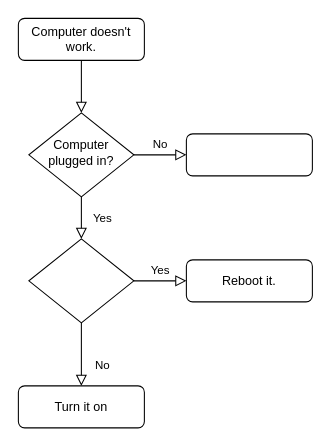
Some shapes in this 331 by 446 pixel diagram are drawn without their labels. Each missing label, with the centre of its shape:
Computer turned on?: (x=81, y=280)
Plug it in: (x=248, y=154)
